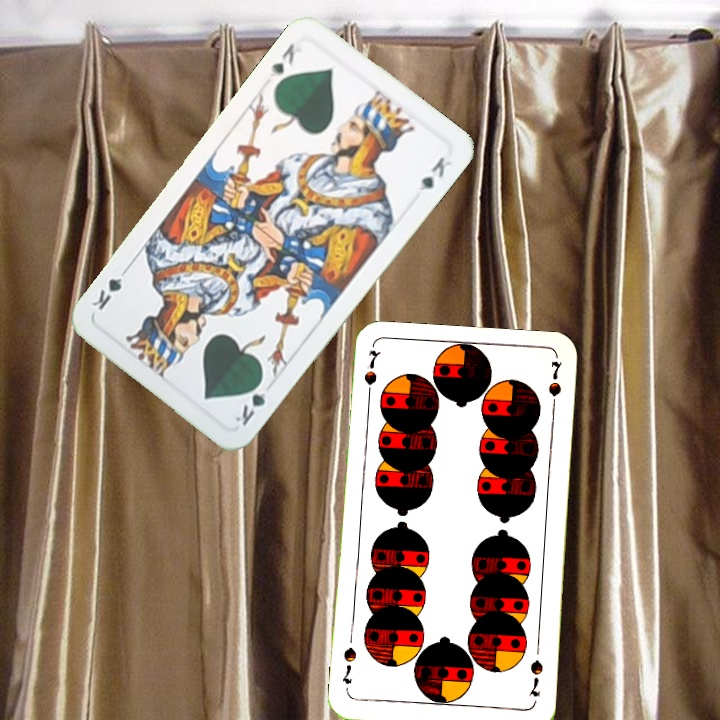GK: (231, 374, 269, 429), (265, 38, 297, 82)
S7: (359, 346, 383, 404), (524, 656, 546, 699)
